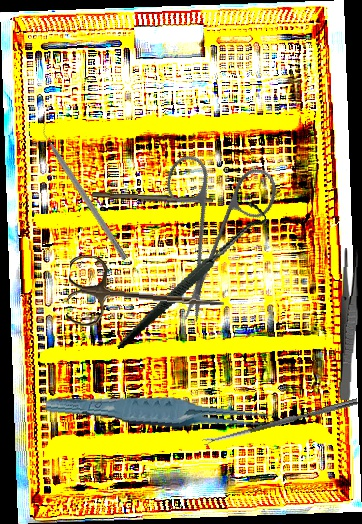Chopper: (36, 120, 136, 261)
Dressing Forceps: (337, 248, 361, 401)
Hook Surgical: (90, 198, 289, 350)
Iris Scissors: (110, 122, 317, 327), (65, 254, 227, 336)
Scalpel Handle: (91, 191, 214, 206)
Surgical Spoon: (201, 397, 359, 446)
Tissue Forceps: (44, 380, 280, 446)
